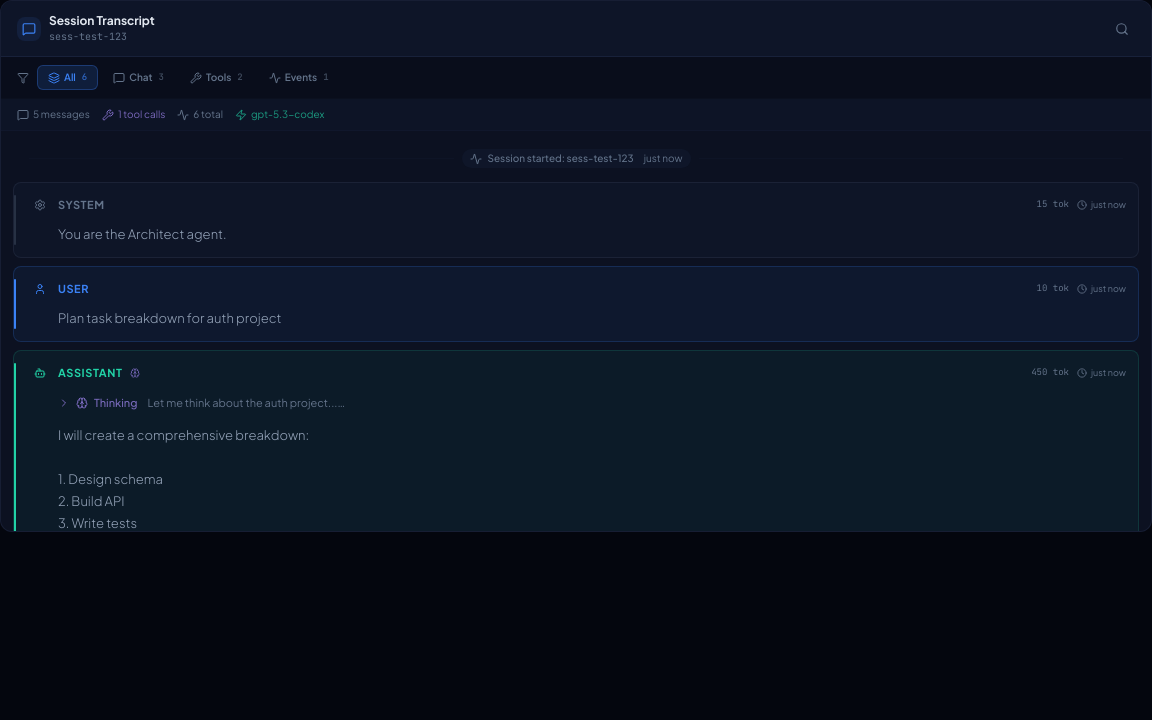
Scenario: ConversationReplay › shows empty state for no search results
Step 1. Click the 1st button → [1122, 28], box [1109,16,1135,42]
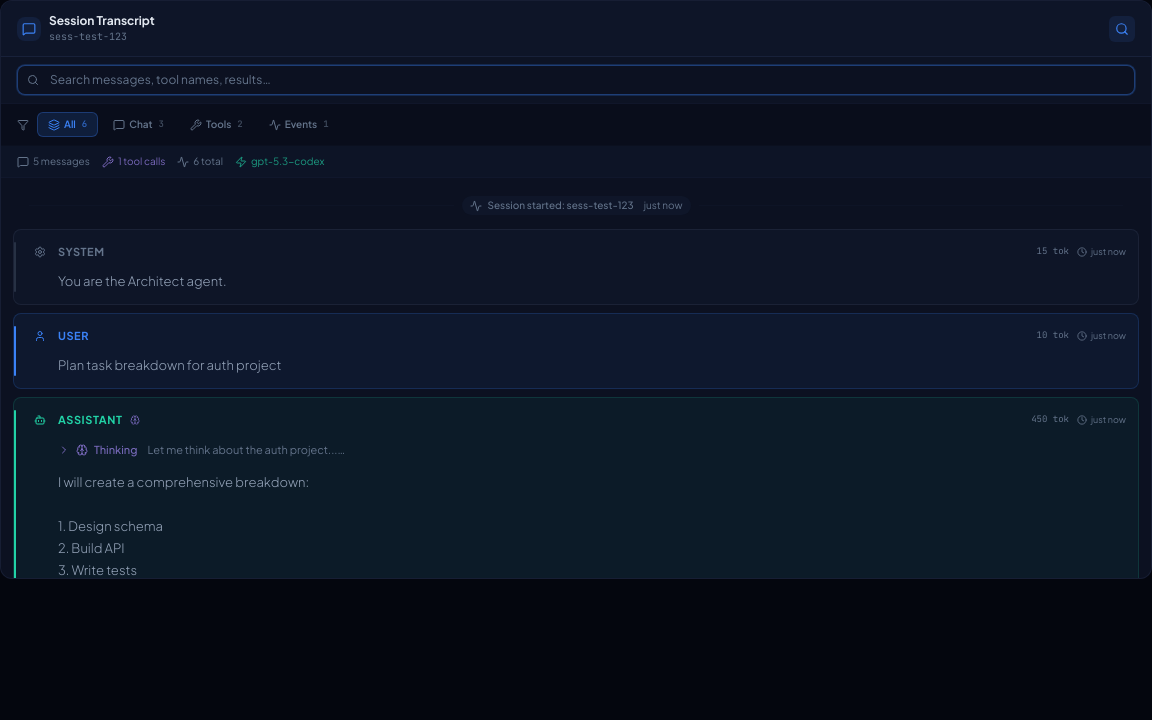
Step 2. Type "xyznonexistent" into the field with placeholder "Search messages, tool names, results…" → [576, 80], box [17,65,1135,95]
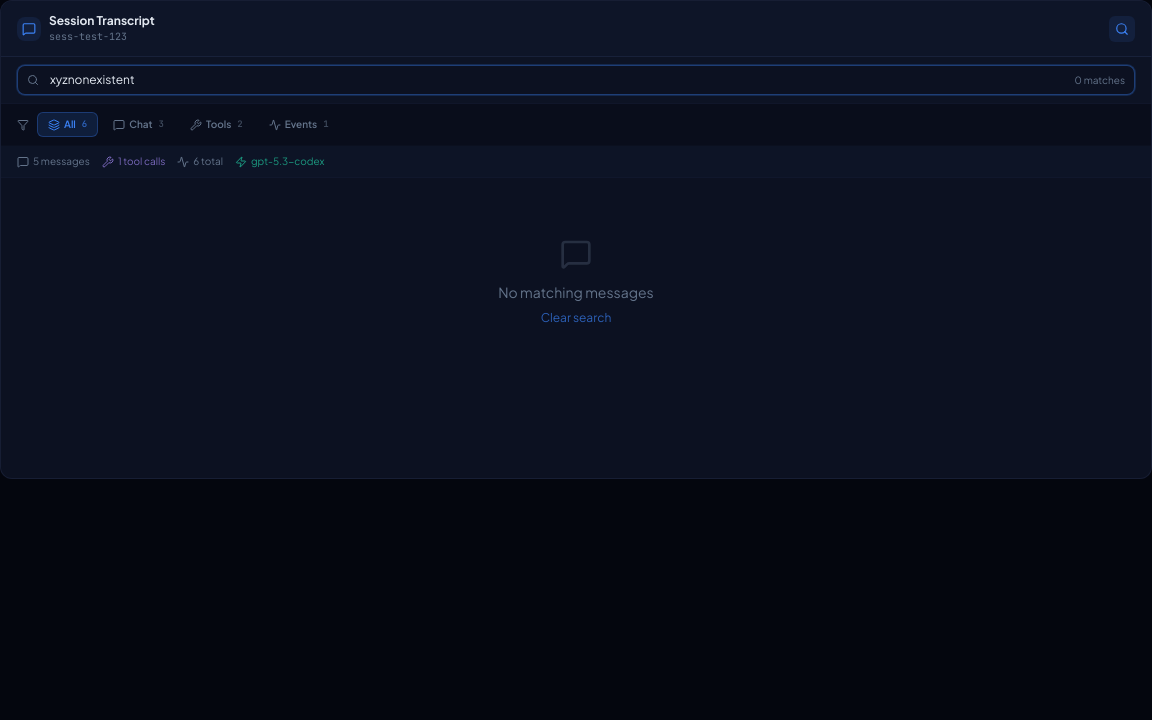
Result: the text "No matching messages" is shown at [498,282,654,302]
